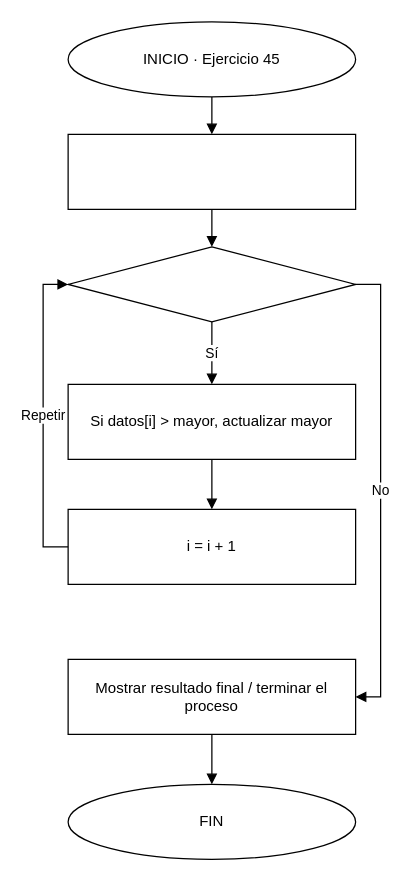
Image size: 413x881. Some labels were removed from this diagram. The shapes that lost their labels are listed below. From the top down, each one's box as (x1, y1, x2, y2) in pixels, then its label:
(67, 133, 356, 209): Leer N; validar N > 0; leer arreglo; mayor = datos[0]; i = 1
(67, 246, 356, 322): ¿i < N?
